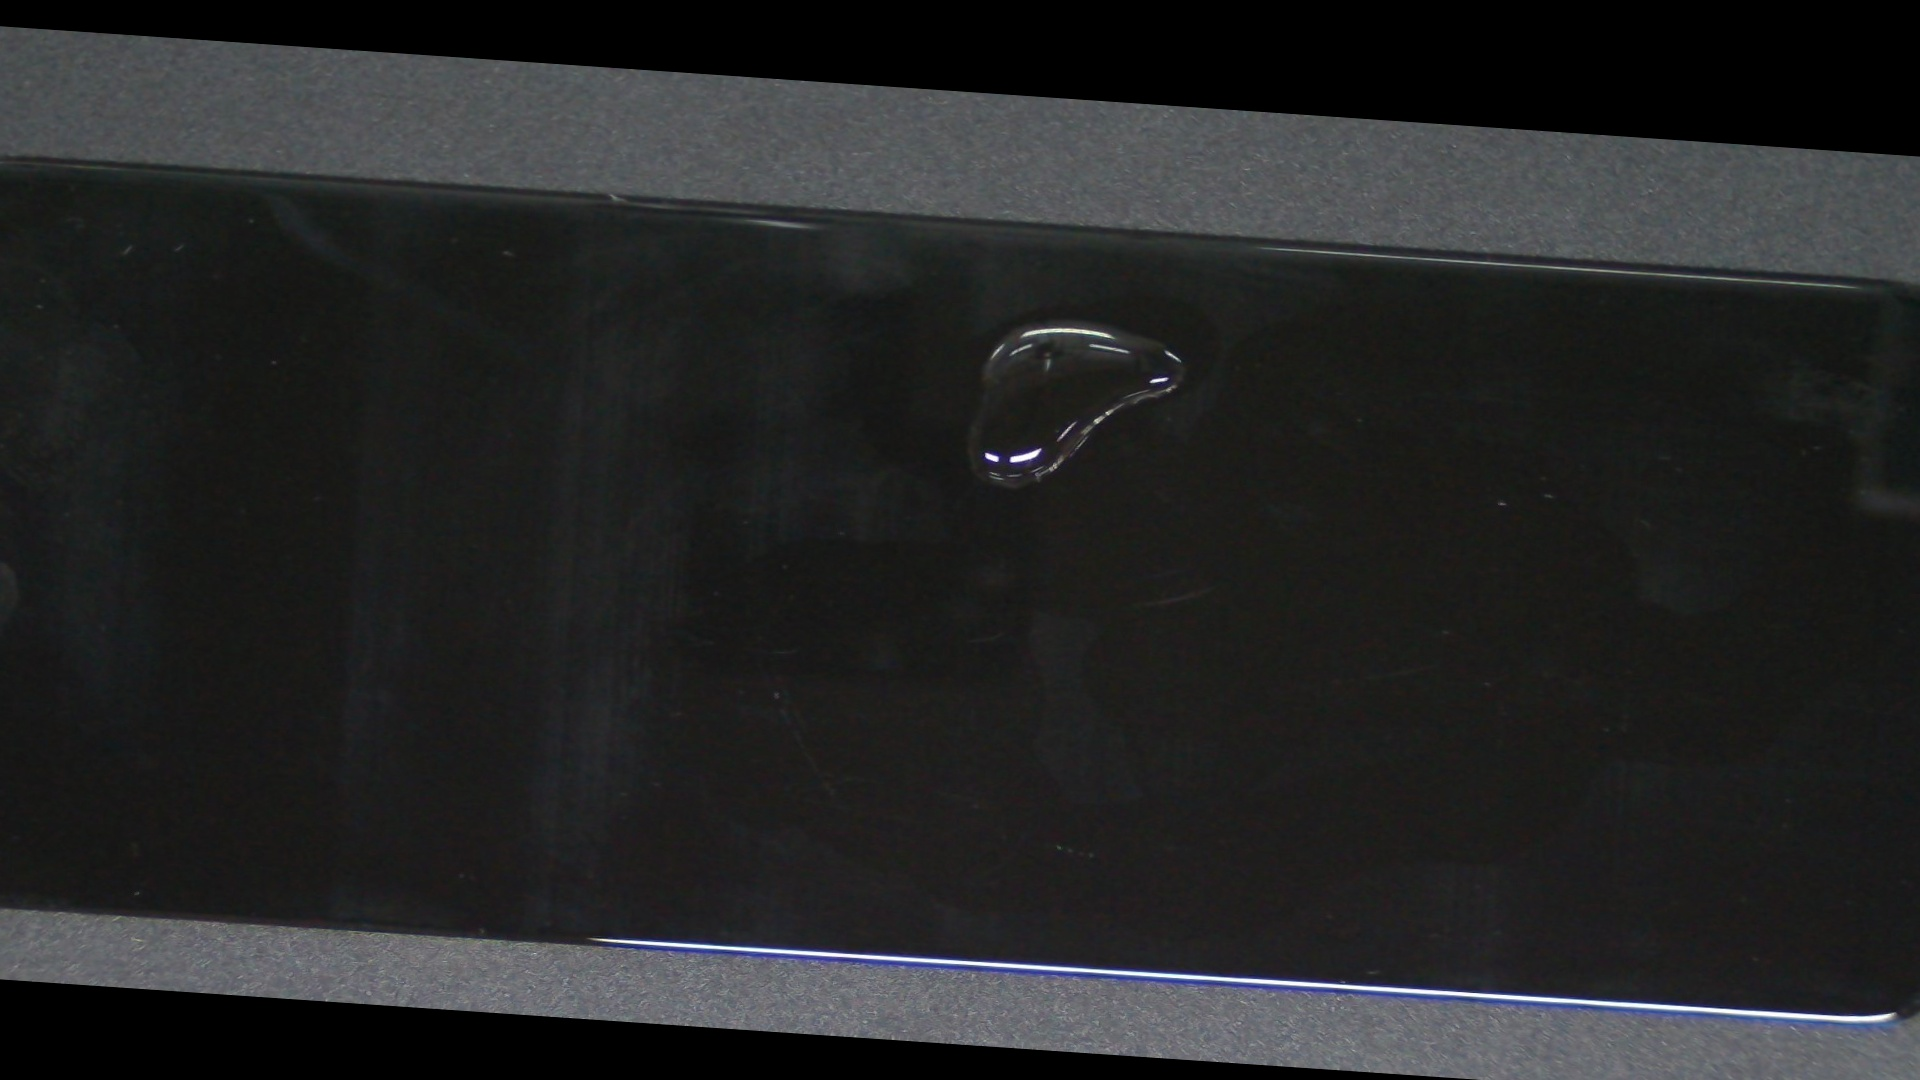oil: (444, 167, 1718, 473)
